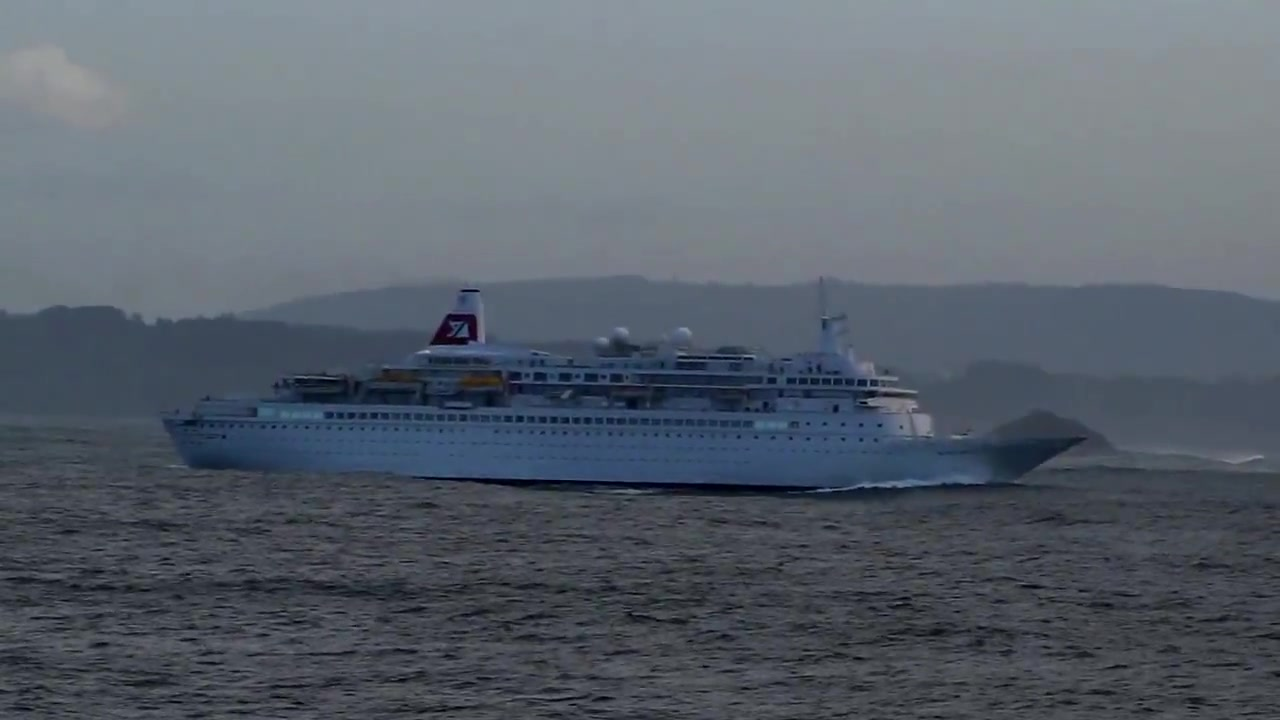boat: (161, 279, 1091, 496)
